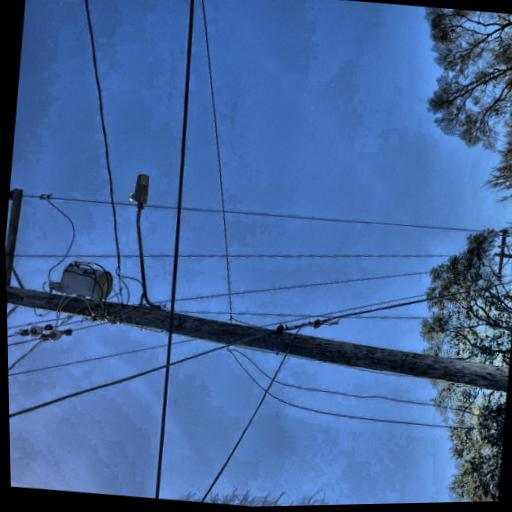pole: (2, 73, 102, 491)
street light: (58, 236, 185, 297)
transformer: (67, 169, 106, 234)
